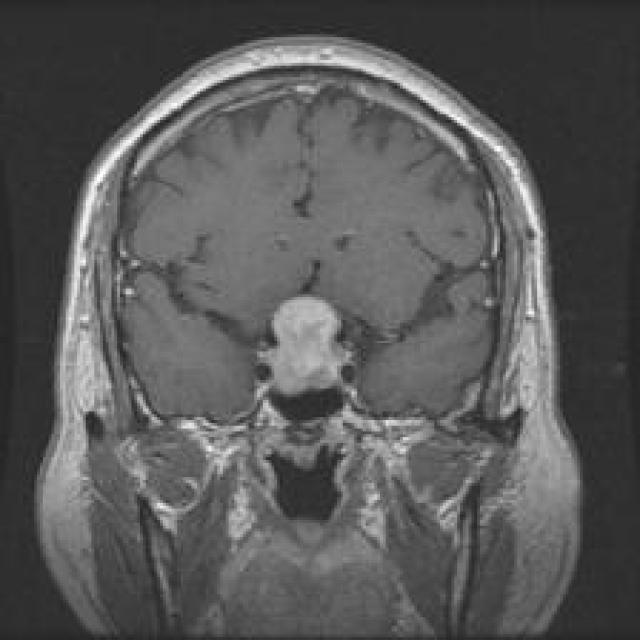pituitary_tumor: (234, 281, 373, 397)
